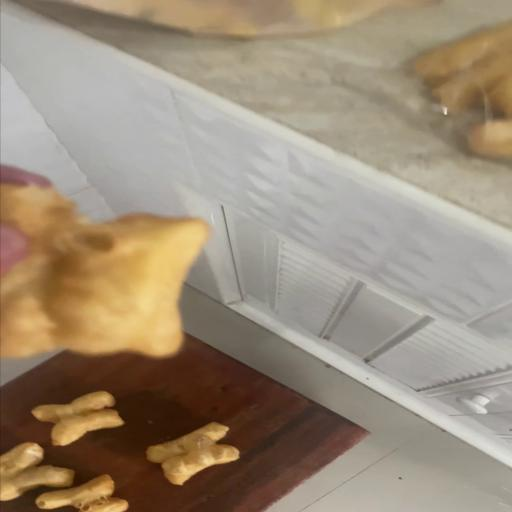street_golden_defect: (2, 182, 210, 356)
street_golden_good: (32, 392, 124, 445)
